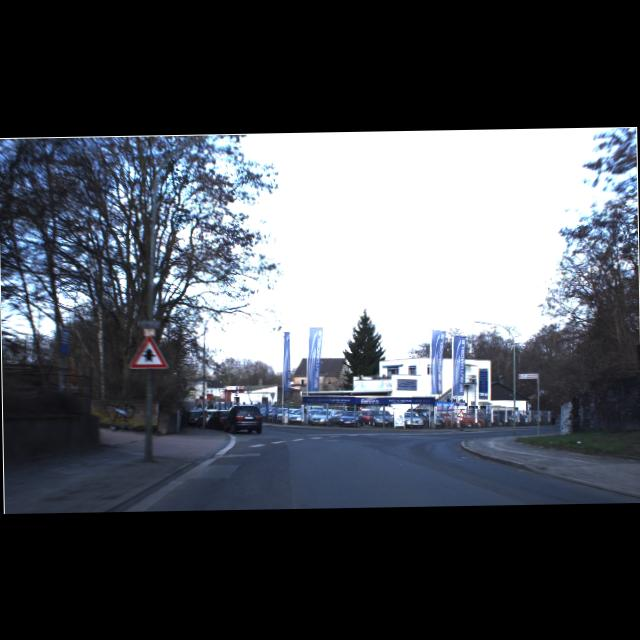danger: (128, 333, 169, 369), (457, 410, 464, 418)
